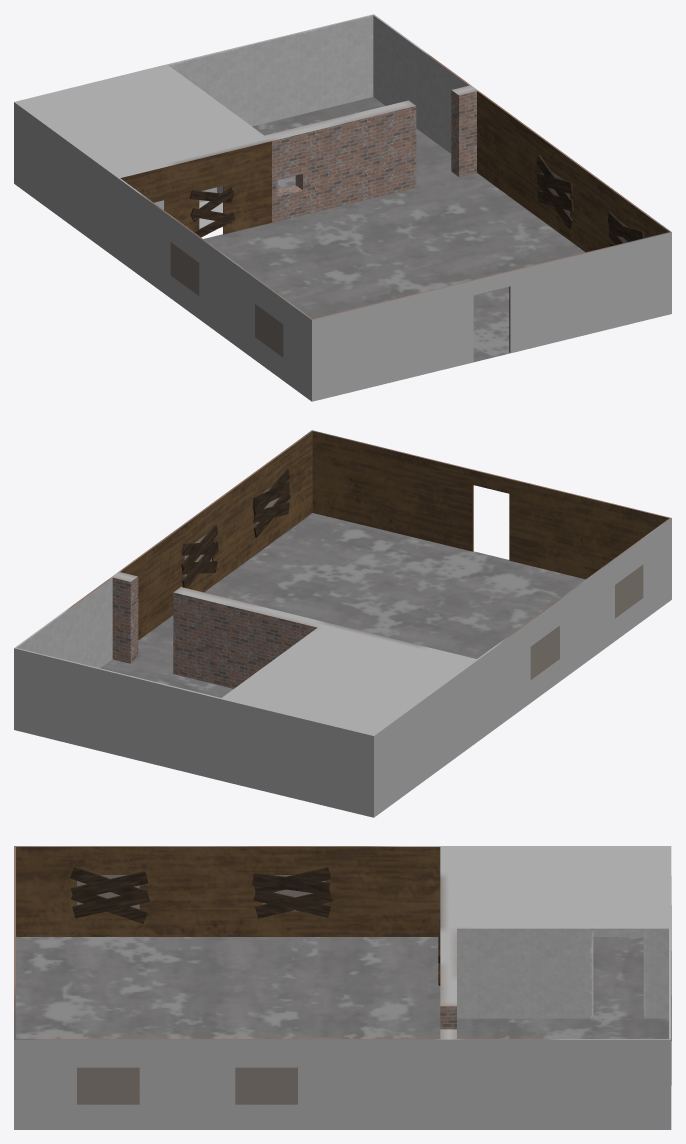
File: Paredes_Bar.fbx
3 views of the same model, one above another, from view 1: azimuth 30°, elevation 25°; view 2: azimuth 150°, elevation 25°; view 3: azimuth 270°, elevation 25° (orthographic). The views are drawn at different scales.
Visible parts, largest first — view 1: Paredes, Madeiras_1, Madeiras_3.001, vidro_3, vidro_4, Madeiras_2; view 2: Paredes, Madeiras_2, Madeiras_1, vidro_3, vidro_4; view 3: Paredes, Madeiras_4, Madeiras_3, vidro_1, vidro_2.
Part boxes in pixels (box(x1,y1,x2,y2)): Paredes: box(14, 14, 671, 401); Madeiras_1: box(536, 155, 573, 229); Madeiras_3.001: box(189, 187, 235, 237); vidro_3: box(255, 304, 283, 357); vidro_4: box(171, 242, 199, 295); Madeiras_2: box(608, 212, 644, 246); Paredes: box(14, 430, 671, 817); Madeiras_2: box(252, 468, 290, 537); Madeiras_1: box(181, 524, 218, 588); vidro_3: box(615, 564, 643, 617); vidro_4: box(530, 626, 558, 679); Paredes: box(14, 846, 671, 1129); Madeiras_4: box(70, 867, 149, 923); Madeiras_3: box(252, 867, 332, 918); vidro_1: box(235, 1067, 297, 1104); vidro_2: box(77, 1067, 139, 1104).
Size of the model in its own units: 1614 by 350 by 2317.
